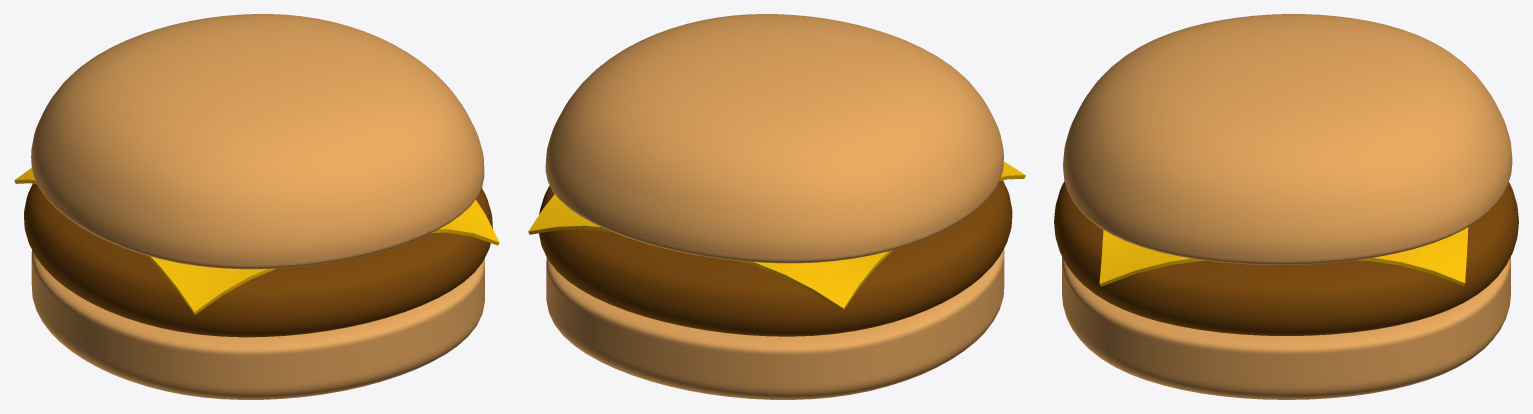
Rendered from hamburger.glb.
The picture shows the model from 3 angles, left to right: view 1: azimuth 30°, elevation 25°; view 2: azimuth 150°, elevation 25°; view 3: azimuth 270°, elevation 25°; orthographic projection.
Parts seen in each view (by area): view 1: Cube.002, Cube.001, Cube, Plane; view 2: Cube.002, Cube.001, Cube, Plane; view 3: Cube.002, Cube.001, Cube, Plane.
Part boxes in pixels (x1,y1,x2,y2): Cube.002: [31, 14, 484, 269]; Cube.001: [24, 183, 492, 337]; Cube: [31, 250, 484, 399]; Plane: [14, 168, 499, 314]; Cube.002: [545, 14, 1003, 263]; Cube.001: [539, 180, 1012, 336]; Cube: [546, 249, 1004, 399]; Plane: [528, 161, 1025, 310]; Cube.002: [1063, 14, 1512, 264]; Cube.001: [1054, 181, 1518, 335]; Cube: [1062, 256, 1510, 399]; Plane: [1099, 227, 1468, 286].
Bounding box in the file's own units: 9.48 × 6.05 × 9.48.
